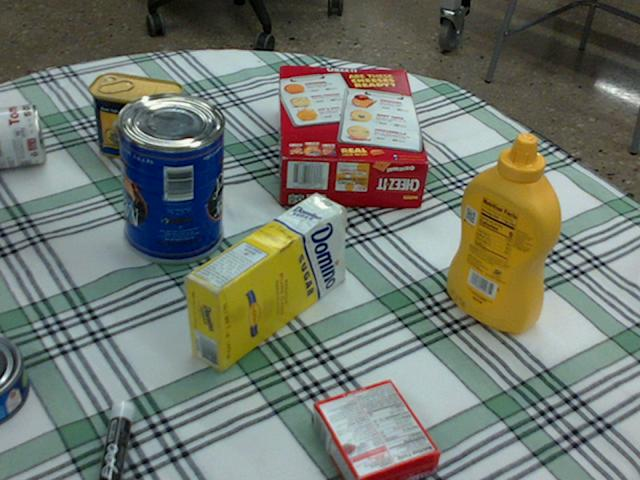cracker_box: (276, 65, 428, 207)
gelatin_box: (311, 380, 437, 479)
large_marker: (96, 400, 132, 479)
master_chef_can: (113, 93, 223, 264)
mustard_bottle: (446, 133, 560, 332)
potted_meat_can: (89, 73, 182, 163)
sugar_box: (183, 193, 344, 371)
tomato_soup_can: (0, 104, 44, 167)
tuna_fish_can: (0, 336, 25, 420)
